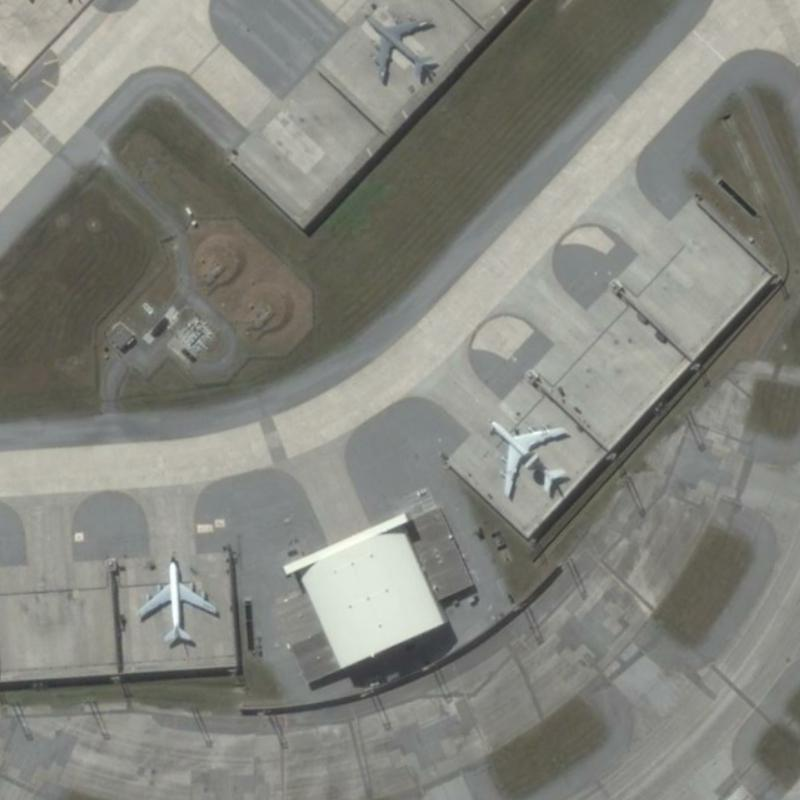A11: (130, 549, 224, 648)
A14: (354, 4, 443, 89)
A7: (480, 413, 580, 505)
